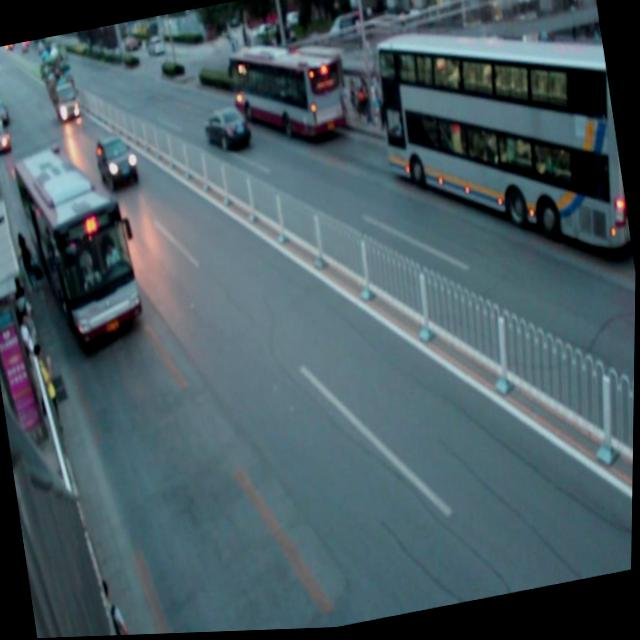car: (93, 131, 142, 194), (201, 104, 254, 159), (0, 119, 14, 156)
van: (371, 4, 635, 290), (9, 141, 150, 357), (225, 30, 351, 156)
